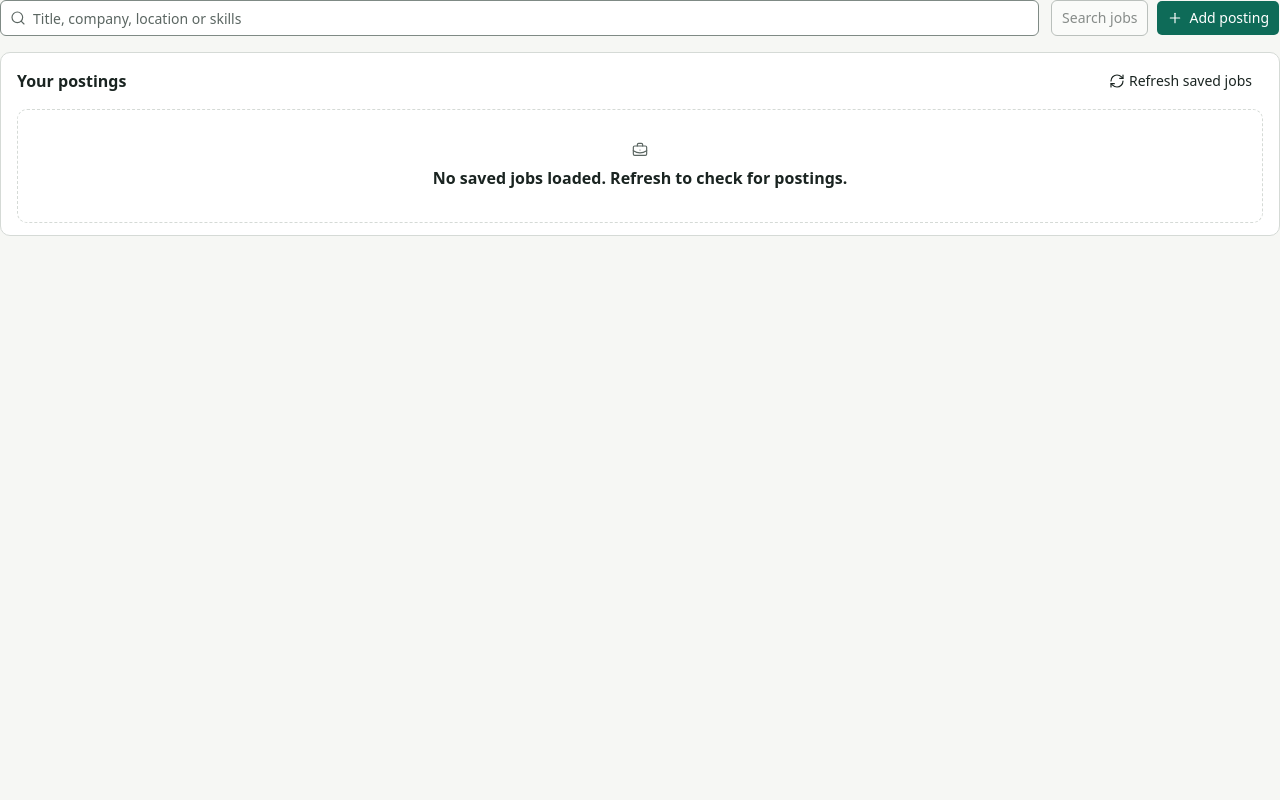
Scenario: job delete › names the job, then deletes it with the echoed token and drops it from the list
Click the button with test id "refreshJobsButton".
click(1180, 81)  # box x1=1098 y1=65 x2=1263 y2=97
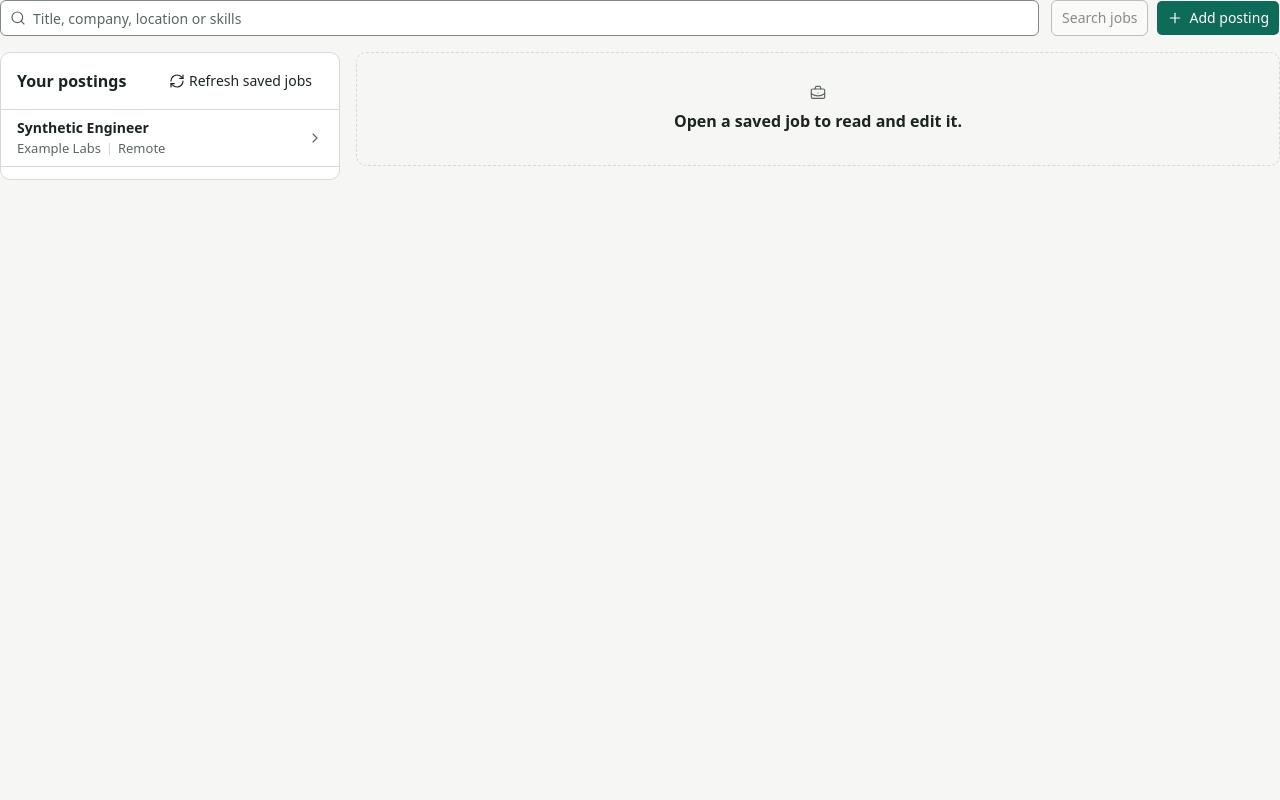
Click the button with aria-label "Open saved job Synthetic Engineer".
click(83, 128)  # box x1=1 y1=110 x2=339 y2=166
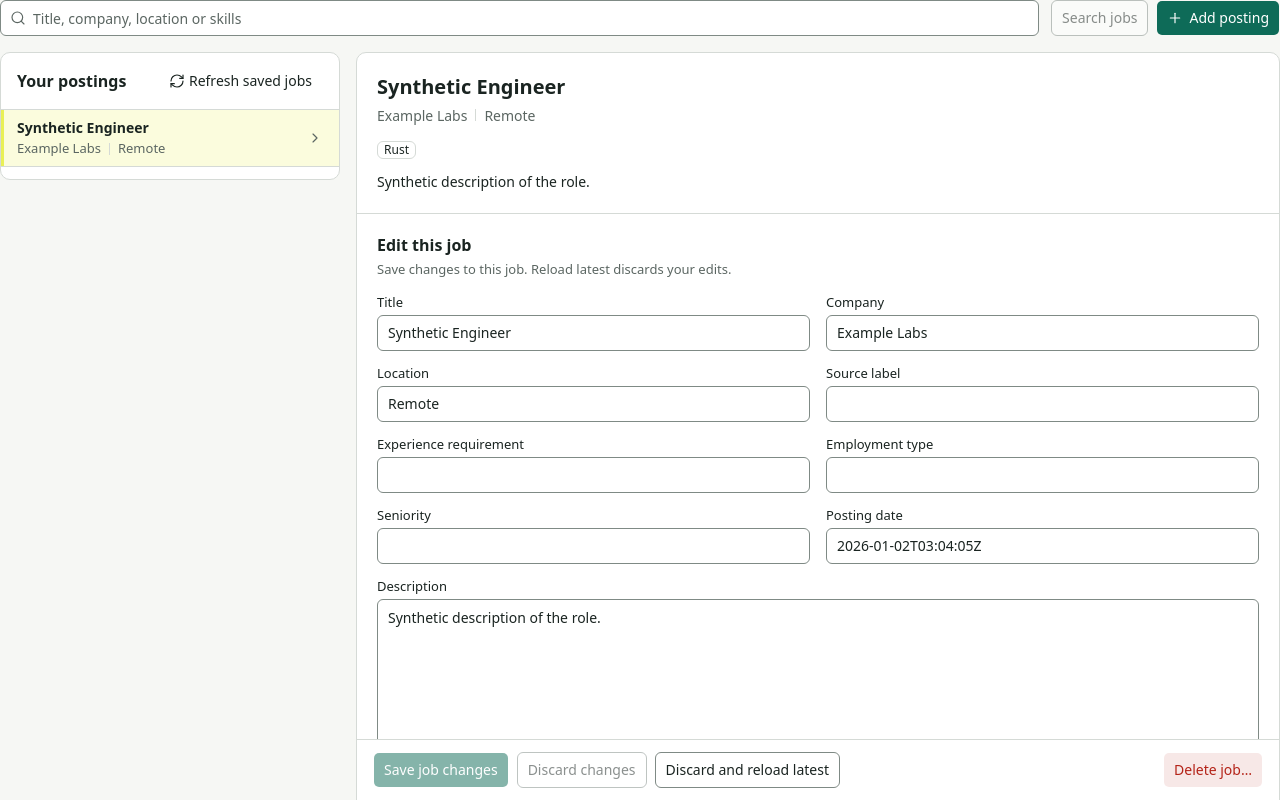
Click the button with test id "deleteJobButton".
click(1213, 770)  # box x1=1163 y1=752 x2=1263 y2=788
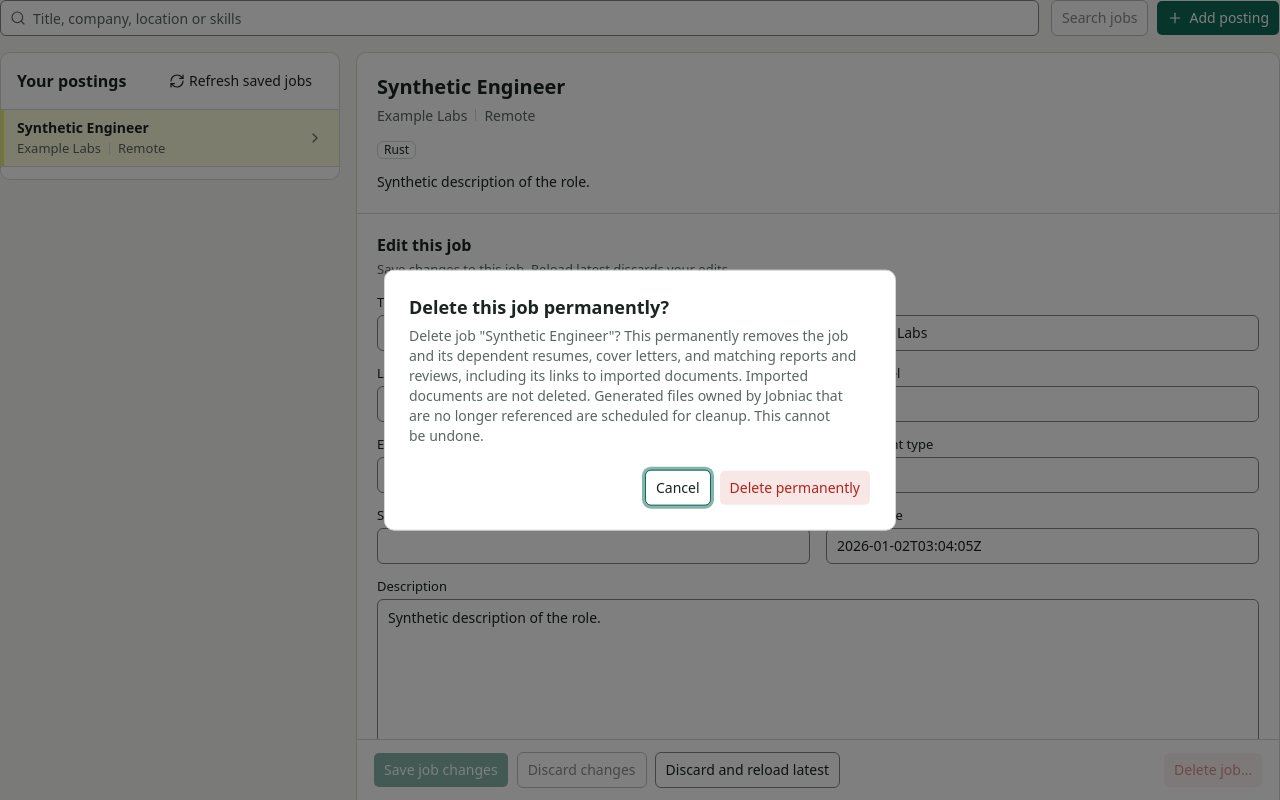
Check: the dialog is shown, box x1=384 y1=270 x2=896 y2=530
Check: the text with test id "deleteJobDialogMessage" shows "Delete job \"Synthetic Engineer\"? This permanently removes the job", box x1=409 y1=325 x2=856 y2=444
Click the button with test id "deleteJobDialogConfirmButton".
click(795, 487)  # box x1=718 y1=469 x2=871 y2=505
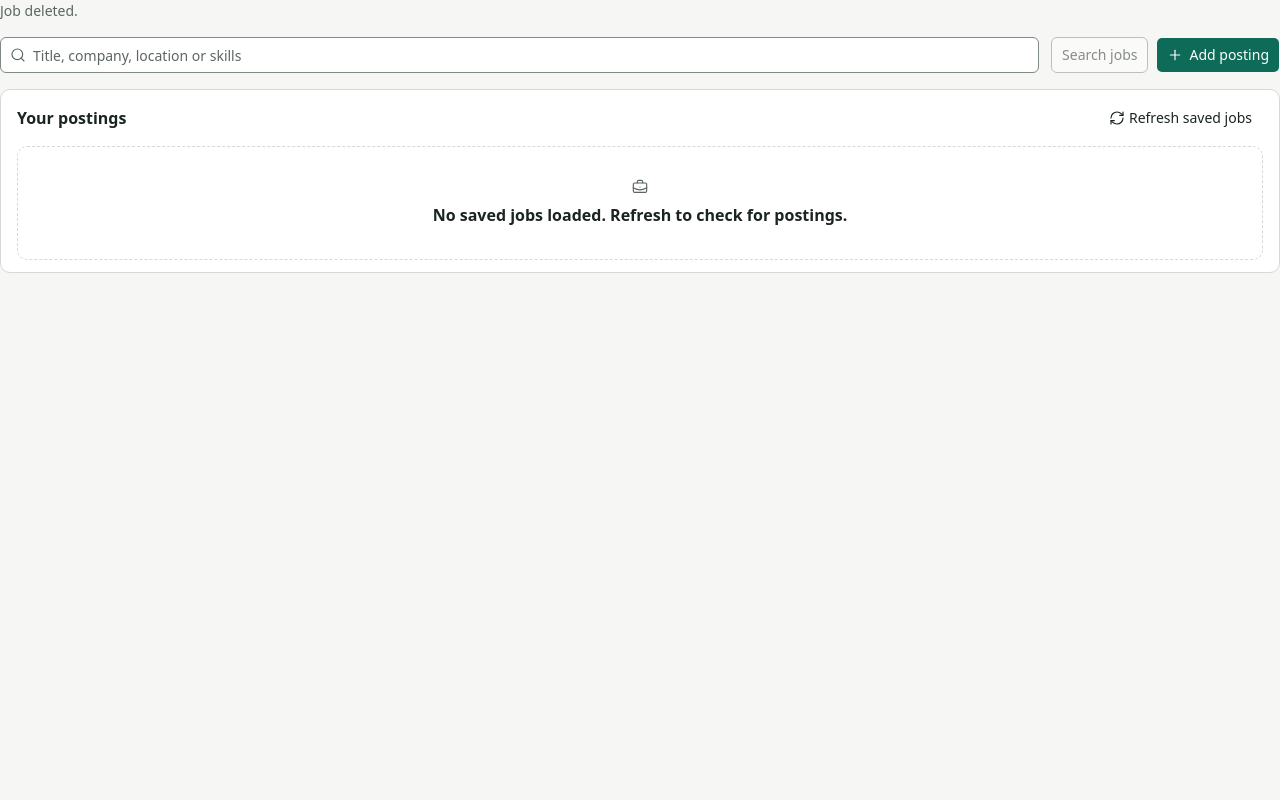
Check: the text "Job deleted." is shown, box x1=0 y1=1 x2=78 y2=20
Check: the element with test id "jobDetailPanel" is gone
